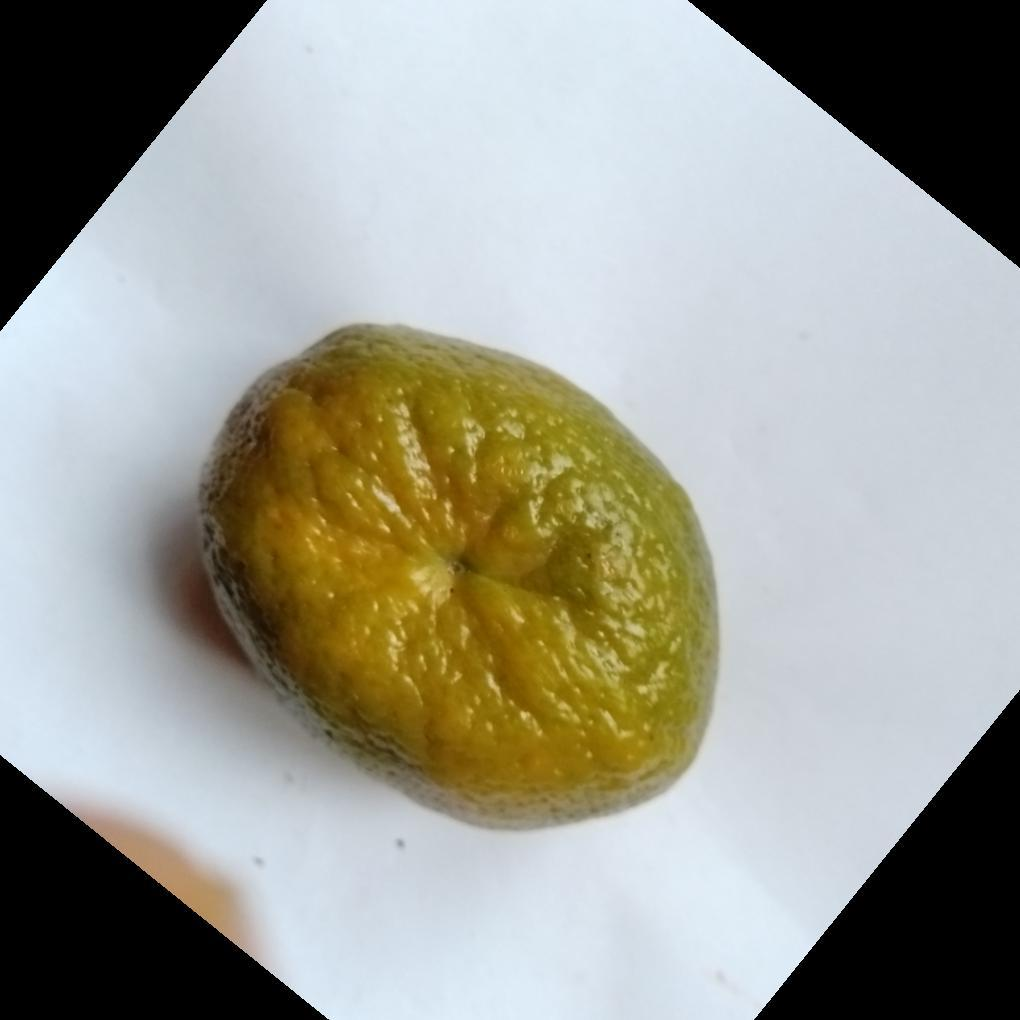FreshOrange: (194, 324, 723, 834)
